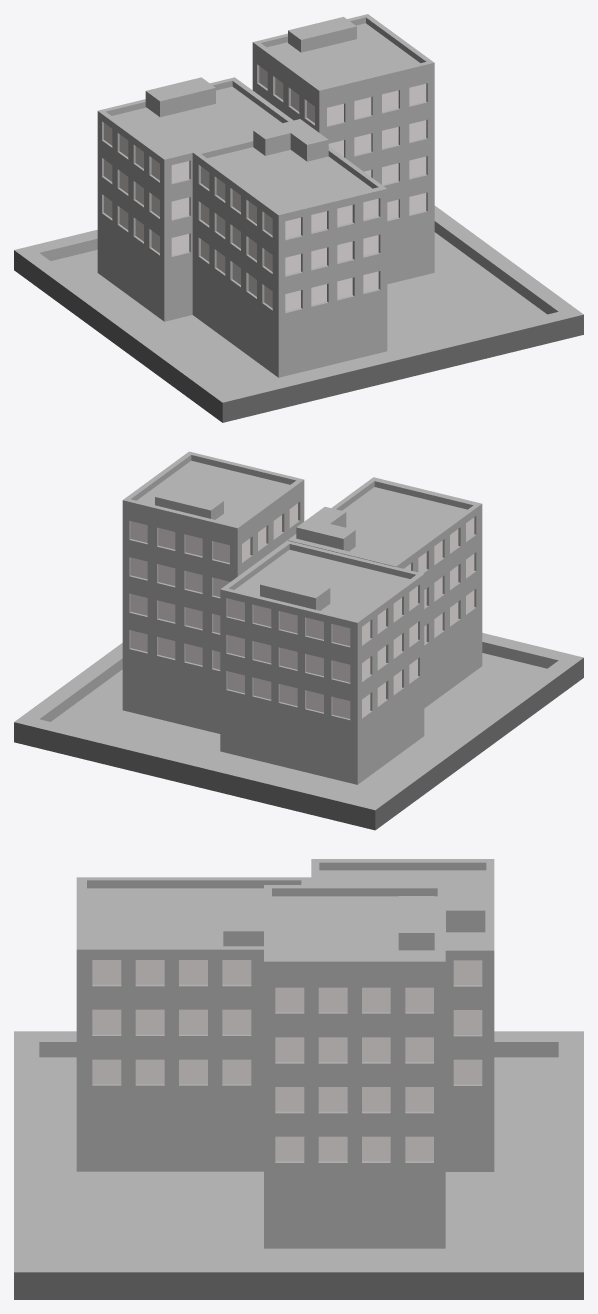
The model's file is grayapartmentlevel1 (1).fbx.
The picture shows the model from 3 angles, top to bottom: view 1: azimuth 30°, elevation 25°; view 2: azimuth 150°, elevation 25°; view 3: azimuth 270°, elevation 25°; orthographic projection. The views are drawn at different scales.
Parts seen in each view (by area): view 1: aparmantbasegray, build2gray, build1gray, build3gray, build2light2gray, build2light3gray, build2light1gray, build1light4gray, build1light3gray, build3light2gray, build3light3gray, build3light1gray (+2 smaller); view 2: build3gray, aparmantbasegray, build1gray, build2gray, build3light2gray, build3light3gray, build3light1gray, build1light4gray, build1light3gray, build1light1gray, build1light2gray, build2light3gray (+2 smaller); view 3: aparmantbasegray, build1gray, build2gray, build3gray, build2light2gray, build2light1gray, build1light4gray, build1light1gray, build2light3gray, build1light3gray, build1light2gray, build3light1gray (+2 smaller).
Boxes of the visible parts, x1,y1,x2,y2 form: aparmantbasegray: (14, 205, 583, 422); build2gray: (192, 119, 387, 377); build1gray: (252, 14, 434, 284); build3gray: (97, 77, 293, 321); build2light2gray: (201, 203, 378, 274); build2light3gray: (201, 166, 378, 238); build2light1gray: (201, 239, 378, 311); build1light4gray: (259, 66, 426, 125); build1light3gray: (328, 120, 426, 156); build3light2gray: (104, 159, 189, 219); build3light3gray: (104, 123, 189, 182); build3light1gray: (104, 196, 189, 255); build3gray: (220, 540, 424, 784); aparmantbasegray: (14, 633, 583, 830); build1gray: (122, 451, 304, 733); build2gray: (287, 477, 482, 708); build3light2gray: (227, 622, 417, 682); build3light3gray: (227, 586, 417, 645); build3light1gray: (227, 659, 417, 718); build1light4gray: (130, 503, 297, 562); build1light3gray: (130, 557, 229, 596); build1light1gray: (130, 630, 220, 669); build1light2gray: (130, 594, 220, 633); build2light3gray: (404, 517, 474, 572); aparmantbasegray: (14, 1031, 583, 1299); build1gray: (264, 885, 445, 1248); build2gray: (76, 877, 311, 1171); build3gray: (311, 859, 494, 1171); build2light2gray: (92, 1009, 251, 1034); build2light1gray: (92, 1059, 251, 1084); build1light4gray: (275, 987, 433, 1012); build1light1gray: (275, 1136, 433, 1161); build2light3gray: (92, 960, 251, 984); build1light3gray: (275, 1037, 433, 1061); build1light2gray: (275, 1087, 433, 1111); build3light1gray: (453, 1059, 482, 1084).
Size of the model in its own units: 568 by 340 by 568.
